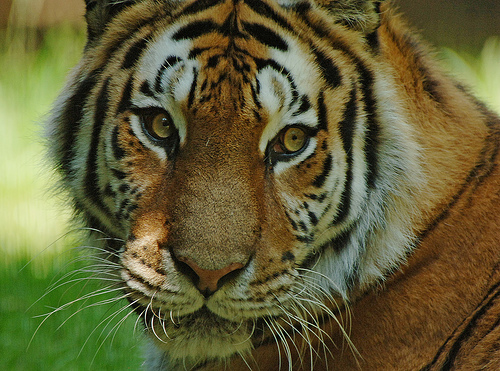Tigre: (70, 10, 462, 338)
